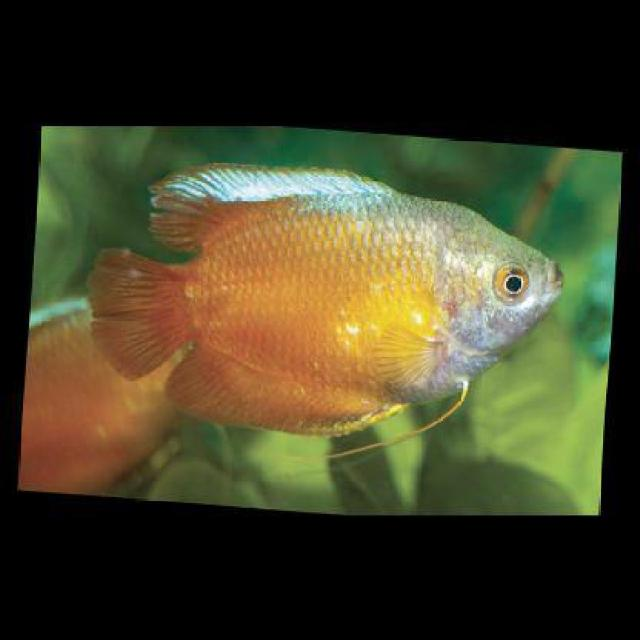Gourami: (90, 164, 564, 438)
